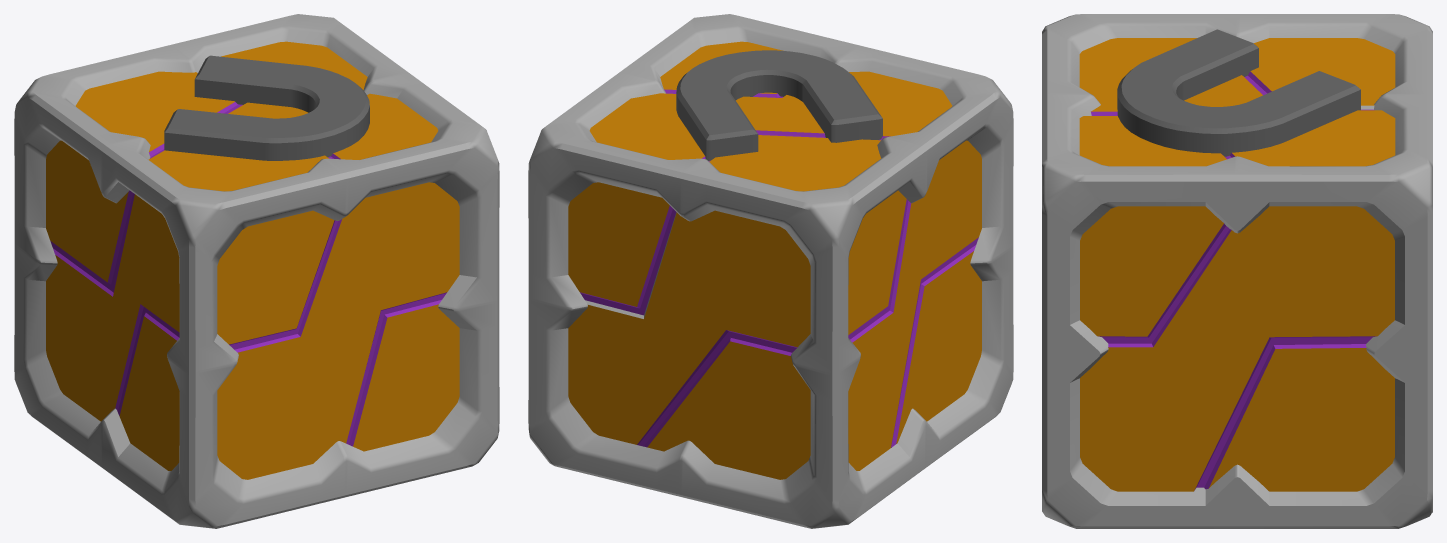
Rendered from SM_MagnetCube_02.fbx.
3 renders of one model, left to right at view 1: azimuth 30°, elevation 25°; view 2: azimuth 150°, elevation 25°; view 3: azimuth 270°, elevation 25°, orthographic. The views are drawn at different scales.
Parts seen in each view (by area): view 1: pCube6, polySurface4, Magnet; view 2: pCube6, polySurface4, Magnet; view 3: pCube6, polySurface4, Magnet.
Part boxes in pixels (x1,y1,x2,y2): pCube6: (46, 41, 459, 479); polySurface4: (14, 14, 499, 528); Magnet: (164, 55, 369, 160); pCube6: (568, 41, 981, 479); polySurface4: (528, 14, 1013, 528); Magnet: (676, 50, 882, 160); pCube6: (1079, 38, 1395, 491); polySurface4: (1042, 14, 1432, 528); Magnet: (1117, 29, 1360, 156).
Size of the model in its own units: 100 by 104 by 100.
